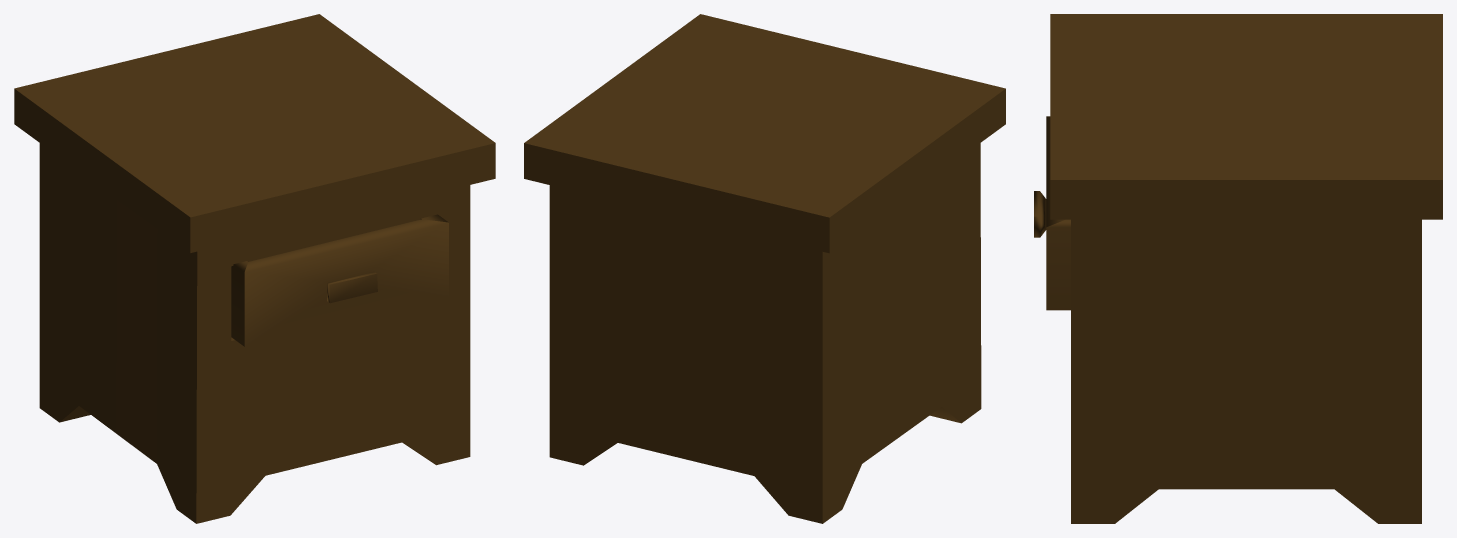
File: SM_Nightstand.fbx
3 views of the same model, side by side, from view 1: azimuth 30°, elevation 25°; view 2: azimuth 150°, elevation 25°; view 3: azimuth 270°, elevation 25° (orthographic). The views are drawn at different scales.
Parts seen in each view (by area): view 1: SM_Nightstand, SM_NightstandDrawer; view 2: SM_Nightstand; view 3: SM_Nightstand, SM_NightstandDrawer.
Boxes of the visible parts, x1,y1,x2,y2 form: SM_Nightstand: [14, 14, 495, 523]; SM_NightstandDrawer: [231, 214, 448, 346]; SM_Nightstand: [524, 14, 1005, 523]; SM_Nightstand: [1050, 14, 1442, 523]; SM_NightstandDrawer: [1034, 116, 1070, 310].
Size of the model in its own units: 99.77 by 99.02 by 104.
